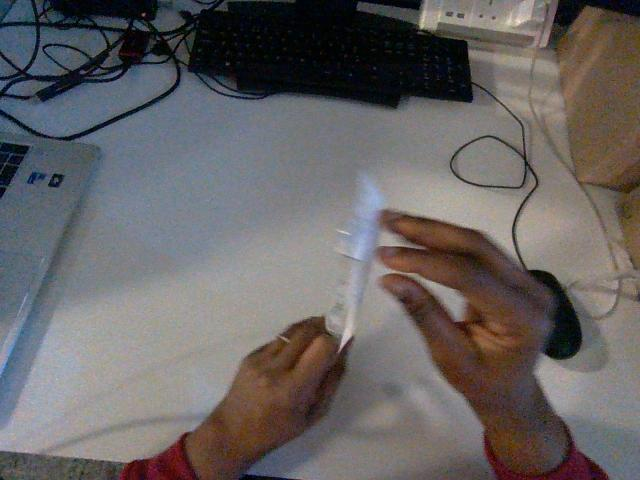syringe: (325, 174, 383, 349)
